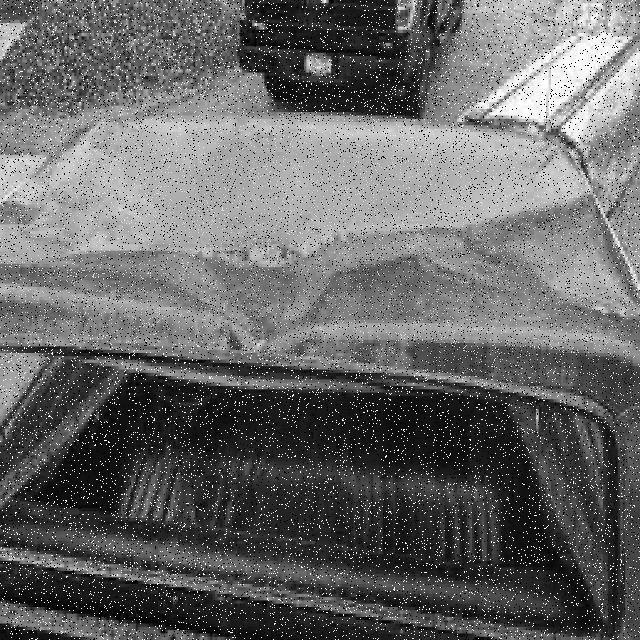roof-dent: (11, 119, 638, 419)
